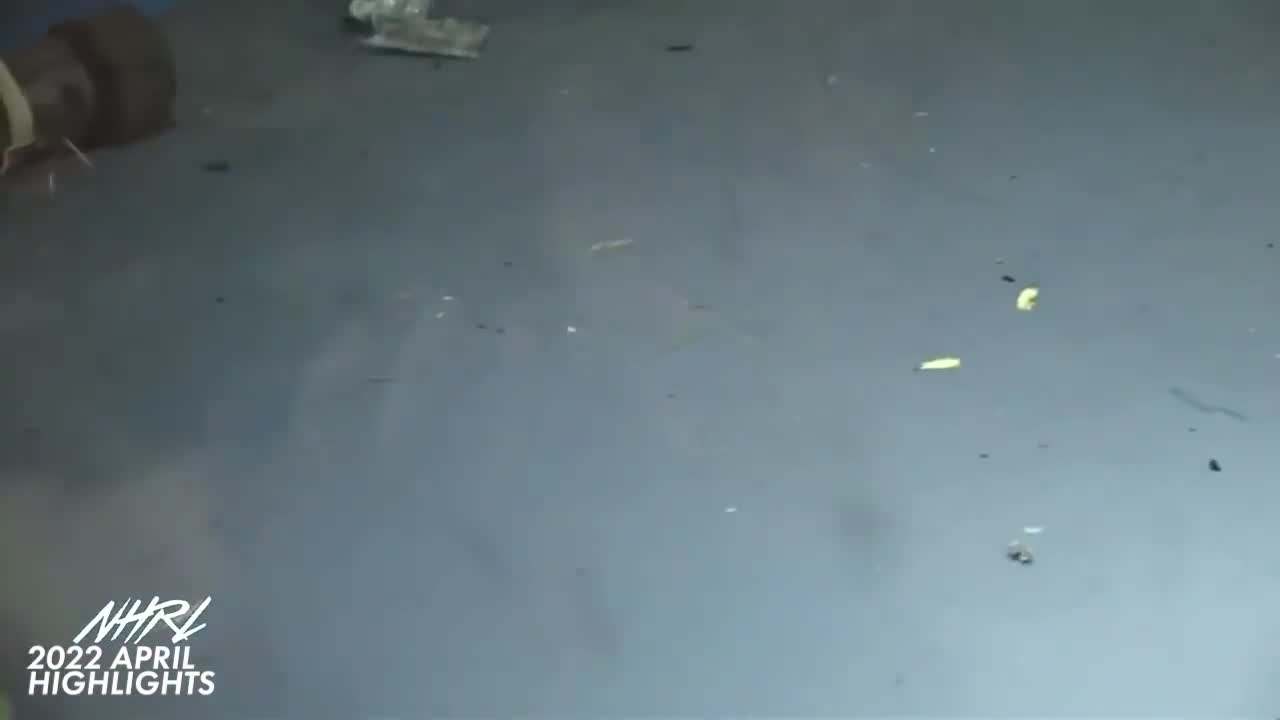combatbot: (0, 4, 183, 247), (342, 0, 490, 68)
